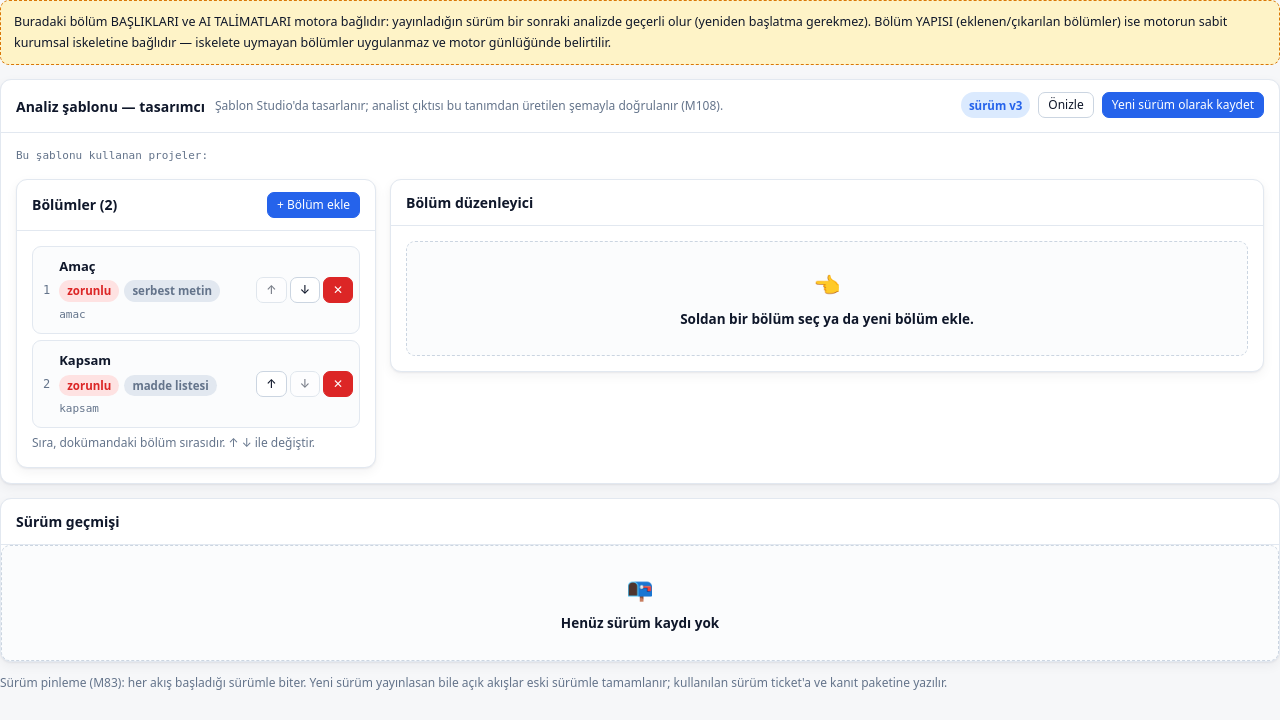
TemplateScreen (M108 designer) › keeps in-progress edits when a refetch reports the same version
The width and height of the screenshot is (1280, 720).
Expected: the text "Amaç" is shown, [59,257,96,275]
Click the button "+ Bölüm ekle": [314, 205] box [267,192,360,218]
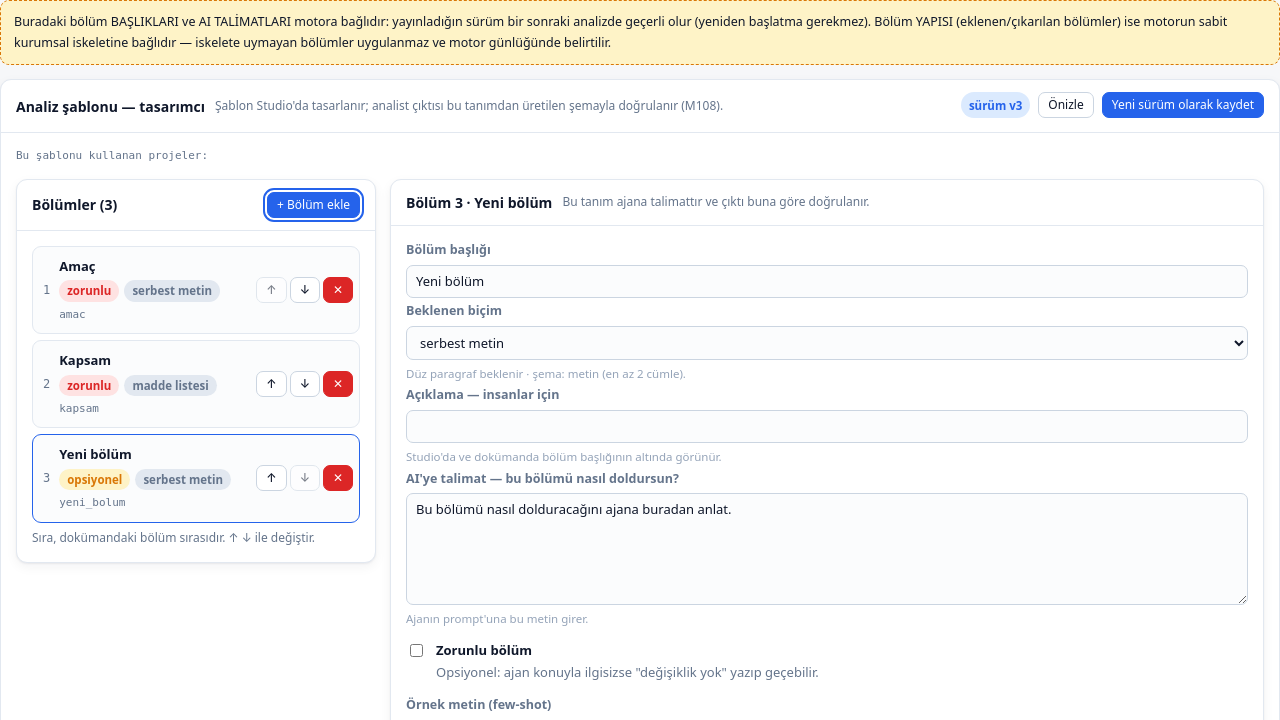
Now the number of list items is 3, box [32,246,360,334]; [32,340,360,428]; [32,434,360,523]
